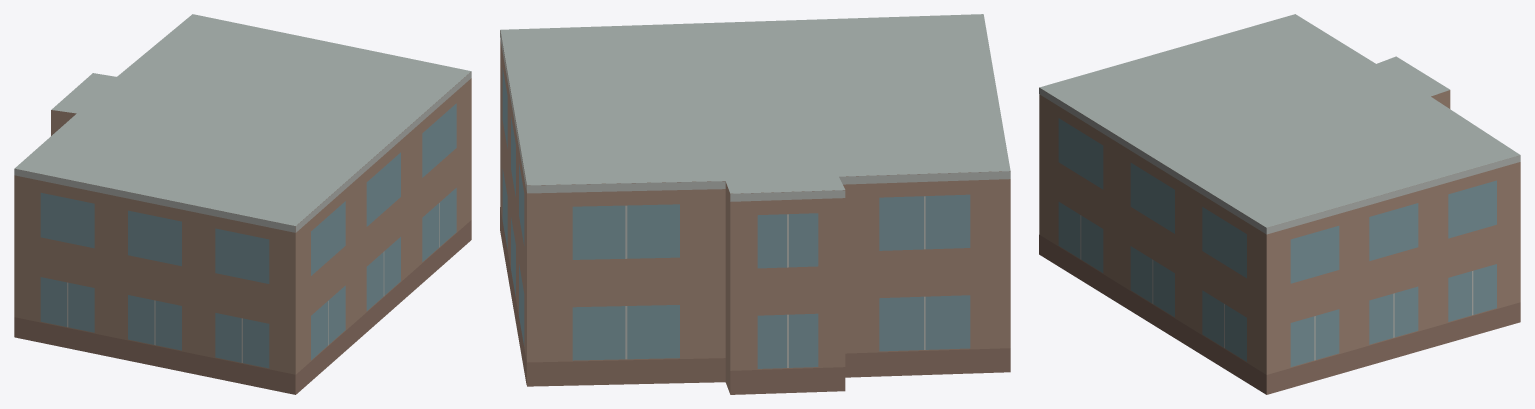
Rendered from survey-upis-32625324.glb.
3 renders of one model, left to right at view 1: azimuth 30°, elevation 25°; view 2: azimuth 150°, elevation 25°; view 3: azimuth 270°, elevation 25°, orthographic. The views are drawn at different scales.
Visible parts, largest first — view 1: survey-upis-32625324.tmp; view 2: survey-upis-32625324.tmp; view 3: survey-upis-32625324.tmp.
Part boxes in pixels (left/top/right/bottom): survey-upis-32625324.tmp: left=14, top=14, right=471, bottom=394; survey-upis-32625324.tmp: left=500, top=14, right=1010, bottom=394; survey-upis-32625324.tmp: left=1039, top=14, right=1520, bottom=394.
Size of the model in its own units: 16.76 by 6.1 by 15.95.
